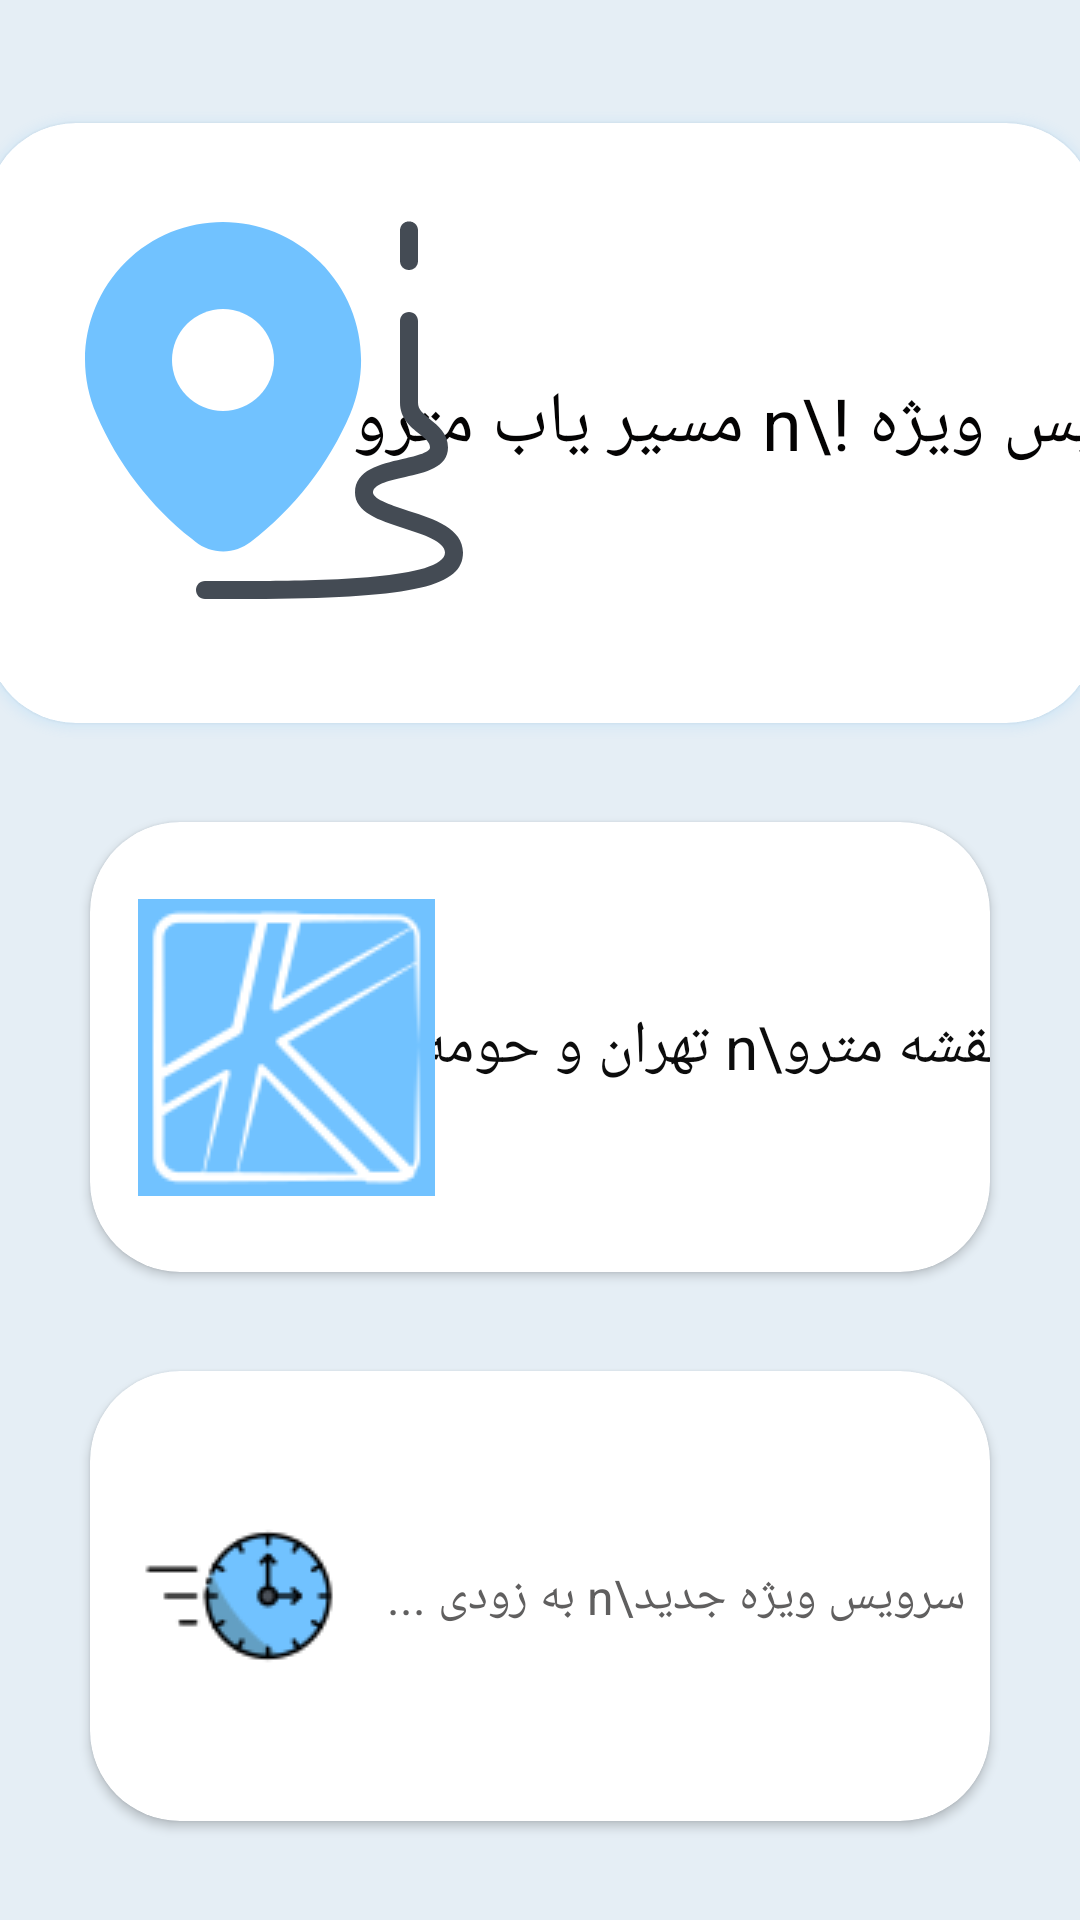

Named icons in this screenshot (1080px×1920px) and their bounding boxes, {"left": x1, "top": y1, "right": x2, "bottom": y2}:
soon: {"left": 145, "top": 1532, "right": 333, "bottom": 1660}
